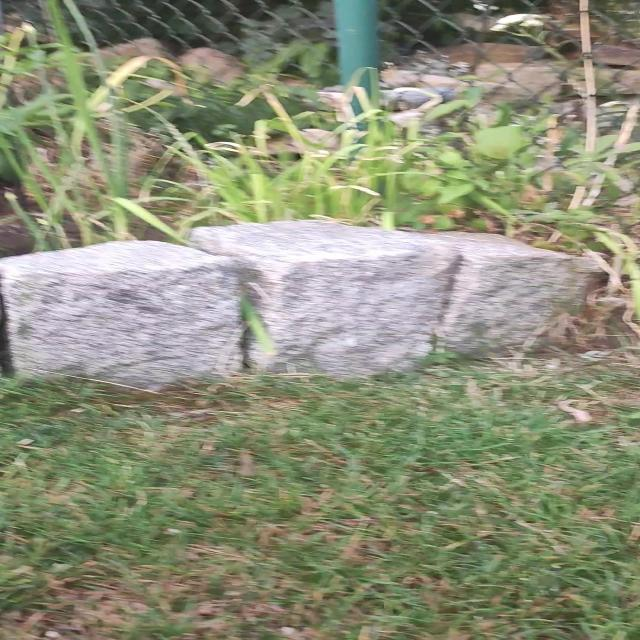lawn: (0, 351, 640, 640)
